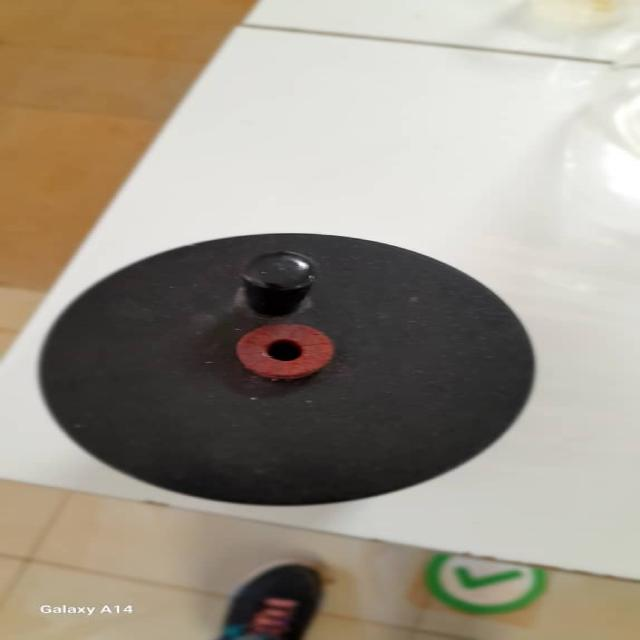Calorimeter: (39, 228, 540, 509)
